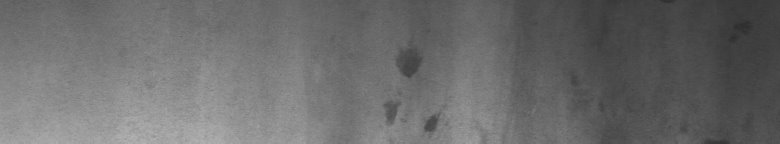fi: (380, 41, 448, 136)
